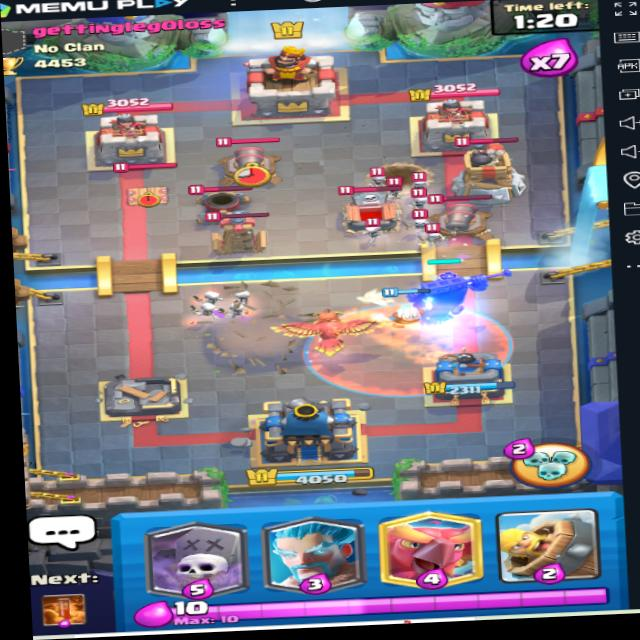bomb-tower: (453, 134, 532, 200)
cannon: (208, 130, 296, 191), (421, 189, 508, 243)
mortar: (185, 181, 264, 221)
skeleton: (407, 208, 435, 237), (364, 164, 392, 189), (406, 193, 437, 215), (421, 222, 448, 244), (409, 167, 431, 190)
tesla: (193, 207, 280, 261)
tesla-closed: (110, 152, 180, 209)
tombstone: (332, 179, 404, 241)
